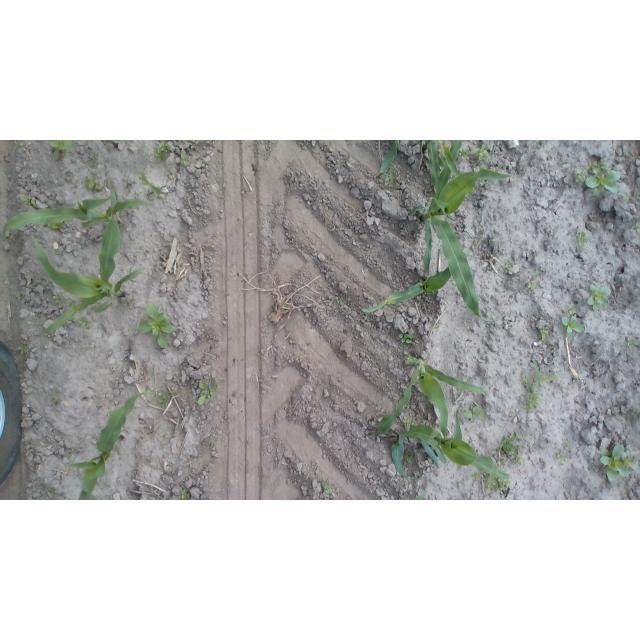Maize: (362, 141, 512, 319), (371, 357, 518, 490), (31, 193, 146, 335), (71, 390, 154, 500), (5, 194, 152, 241)
Weeds: (522, 358, 566, 415), (576, 157, 620, 199), (136, 303, 176, 349), (599, 443, 638, 486), (560, 303, 587, 337), (500, 432, 526, 465), (588, 283, 613, 314), (155, 389, 181, 412), (197, 378, 220, 404), (475, 473, 508, 489), (49, 141, 71, 162), (85, 173, 106, 194), (523, 271, 542, 294), (464, 403, 484, 421), (156, 142, 173, 163), (477, 143, 491, 165), (627, 331, 640, 352), (555, 450, 570, 468), (75, 316, 93, 331), (178, 153, 192, 172), (317, 482, 339, 494), (502, 258, 515, 277), (397, 329, 413, 344), (17, 343, 34, 357), (458, 146, 471, 163), (404, 450, 415, 470), (536, 325, 549, 341), (575, 230, 587, 247), (333, 296, 347, 309), (400, 416, 412, 430), (51, 292, 65, 302), (179, 490, 196, 498), (633, 220, 640, 235)
